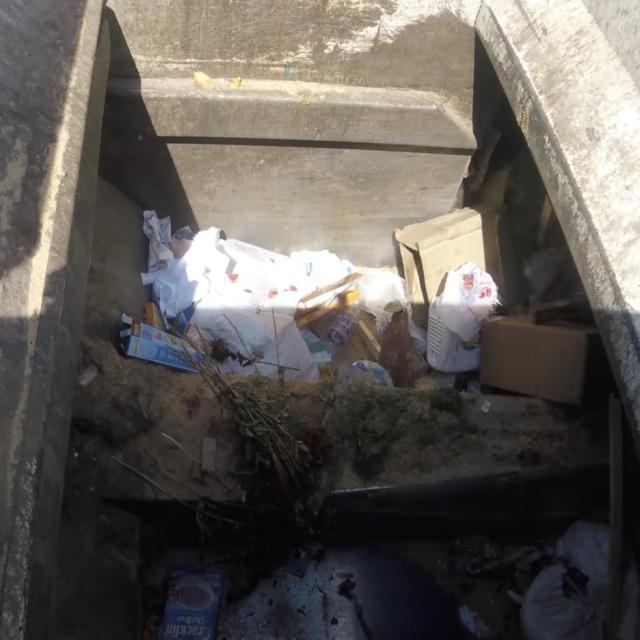cardboard: (391, 211, 521, 316), (128, 315, 198, 369)
yard: (176, 329, 488, 506)
